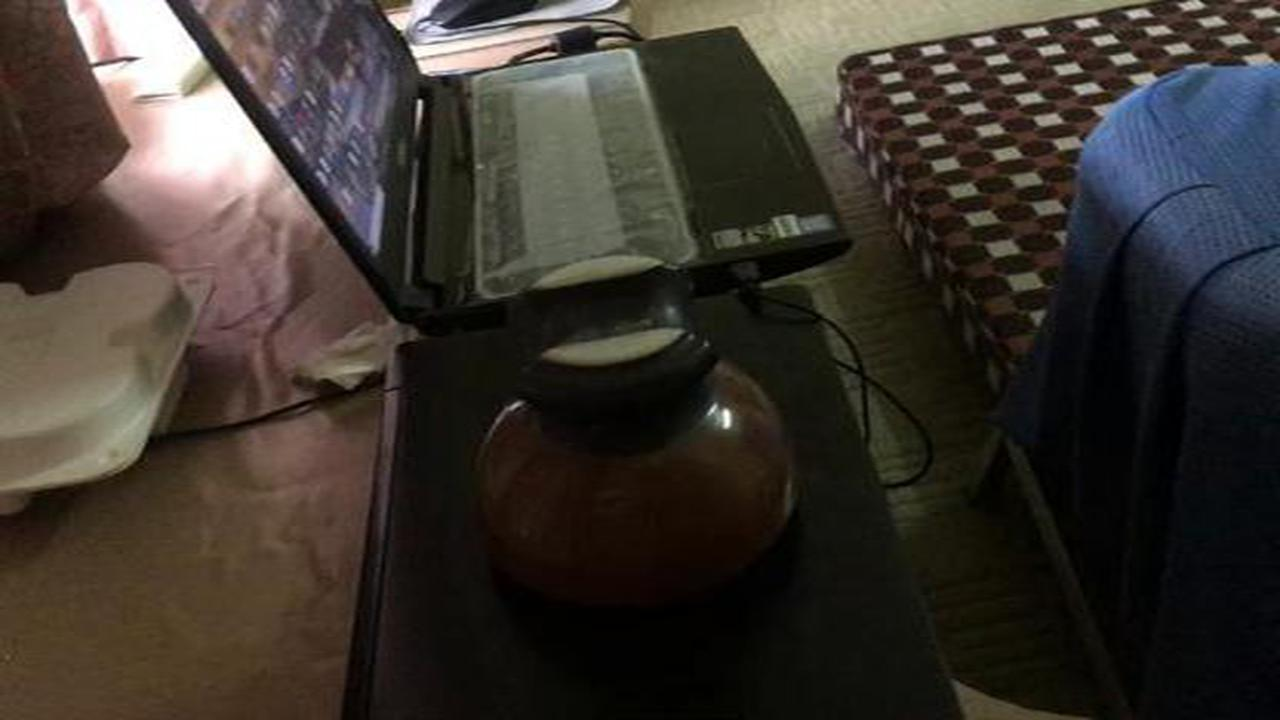insulator_pin: (447, 238, 816, 634)
